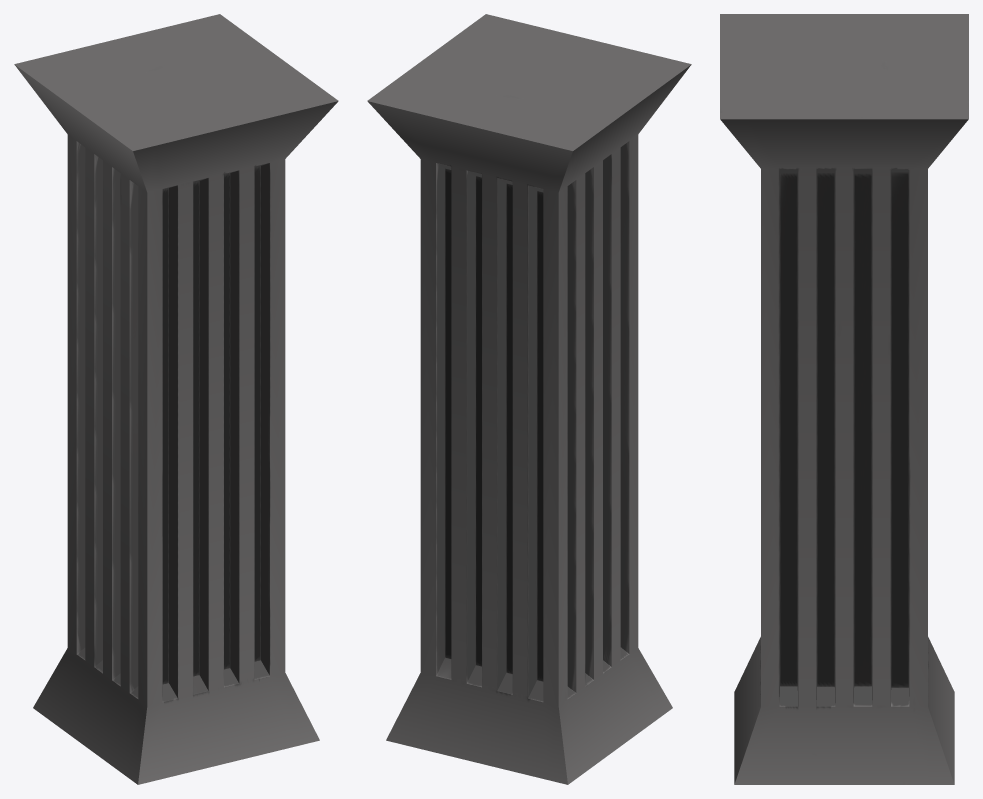
Rendered from Pillar.fbx.
3 renders of one model, left to right at view 1: azimuth 30°, elevation 25°; view 2: azimuth 150°, elevation 25°; view 3: azimuth 270°, elevation 25°, orthographic. The views are drawn at different scales.
Parts seen in each view (by area): view 1: pCube1; view 2: pCube1; view 3: pCube1.
Boxes of the visible parts, box(x1,y1,x2,y2) form: pCube1: box(14, 14, 338, 784); pCube1: box(367, 14, 691, 784); pCube1: box(720, 14, 968, 784).
Size of the model in its own units: 168 by 500 by 168.
Materials: 1 (1 with a texture image).
